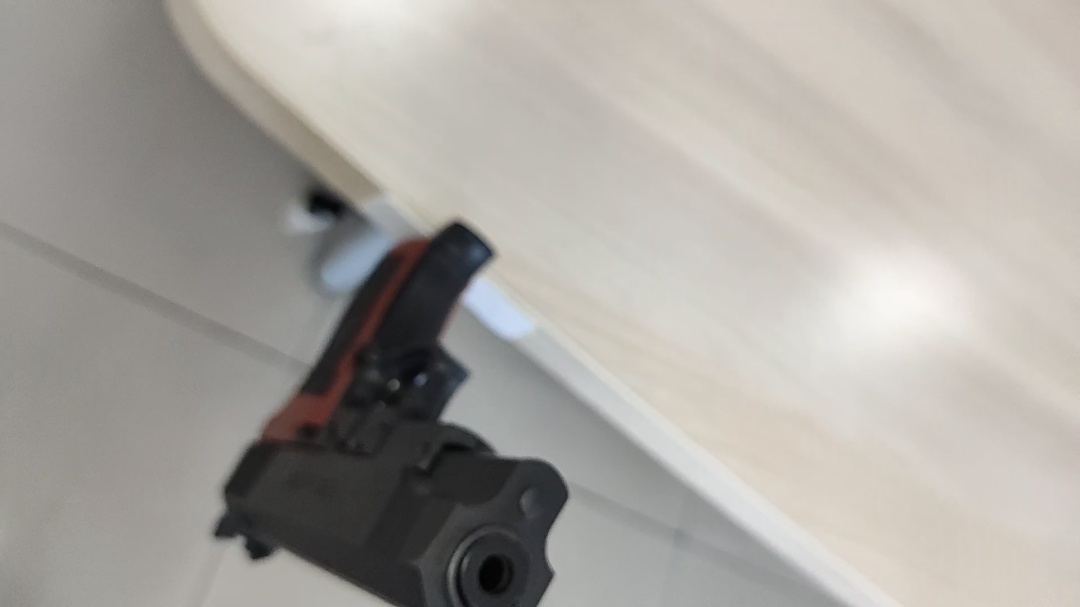gun: (216, 222, 572, 607)
